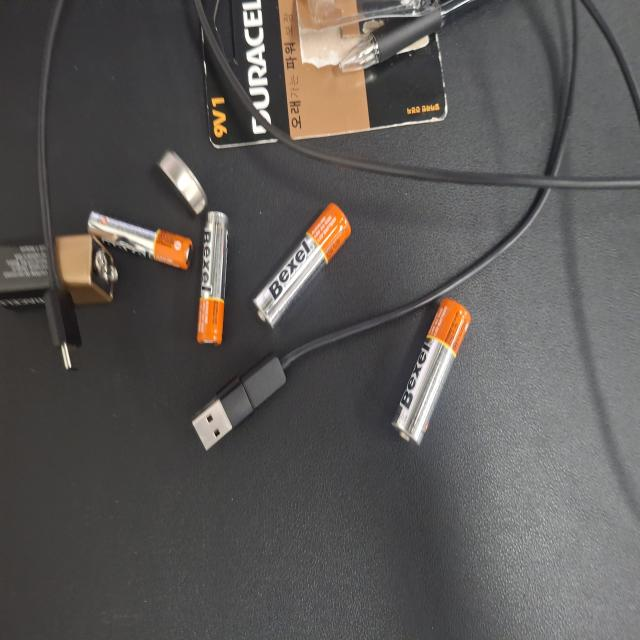9V: (247, 0, 305, 155)
AA: (232, 335, 327, 464), (146, 521, 256, 626)
AAA: (278, 116, 321, 257), (220, 262, 324, 304)
COIN: (317, 206, 368, 276)
